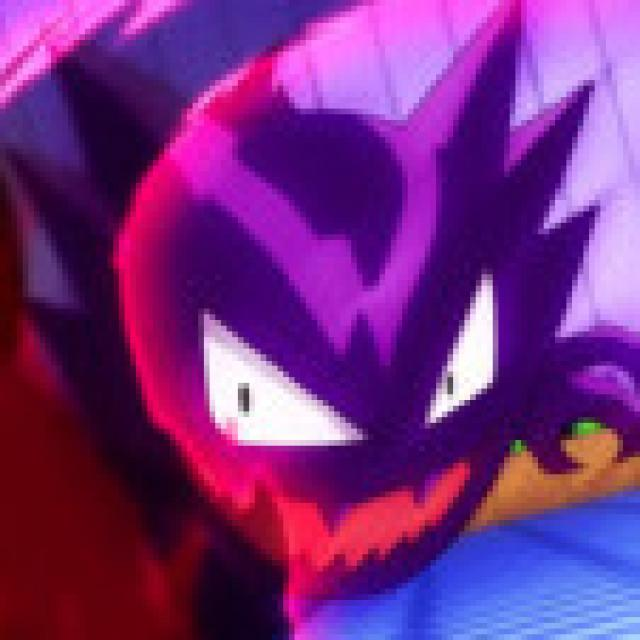Haunter: (59, 44, 598, 599)
